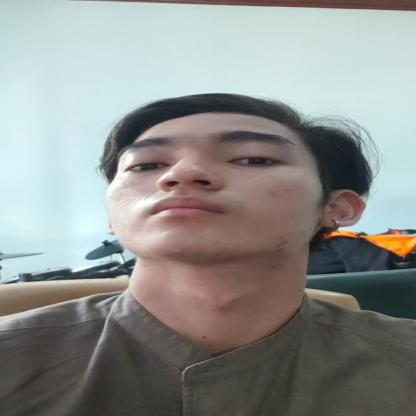Palm: (44, 87, 415, 355)
